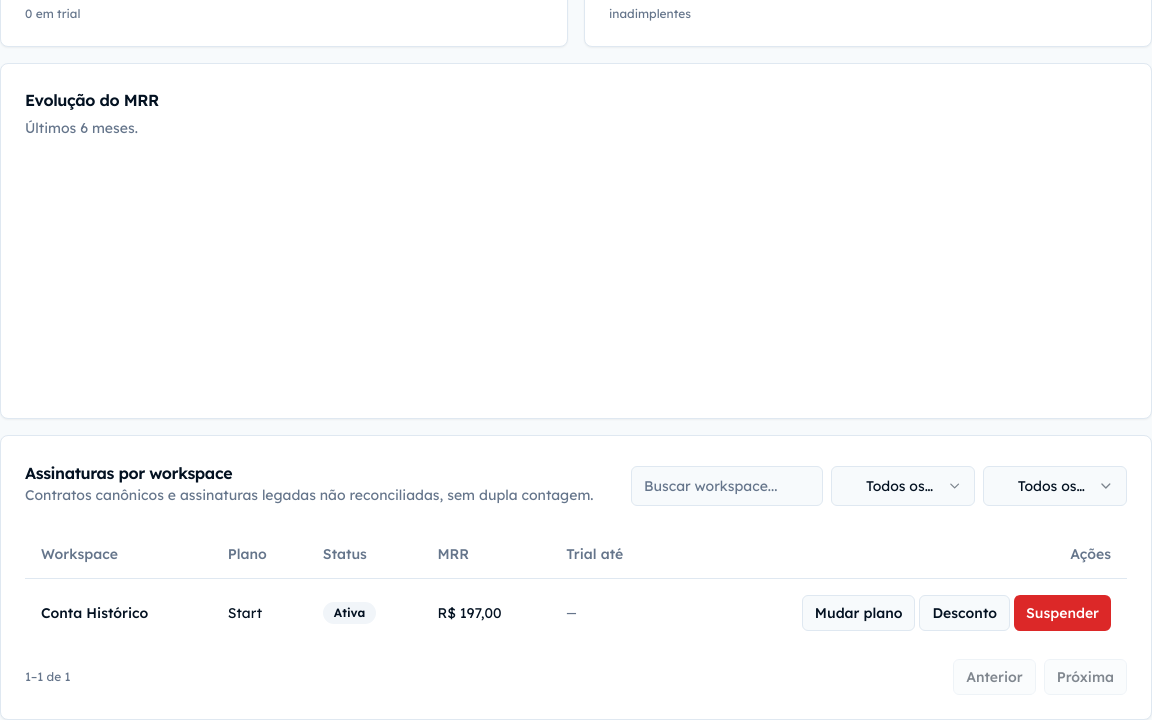
Test: PlatformBillingPanel › loads and navigates the complete subscription history from the paginated endpoint
This screenshot has width=1152, height=720.
(page scrolled)
Click the button "Conta Histórico". click: (95, 612)
box: [41,602,148,622]
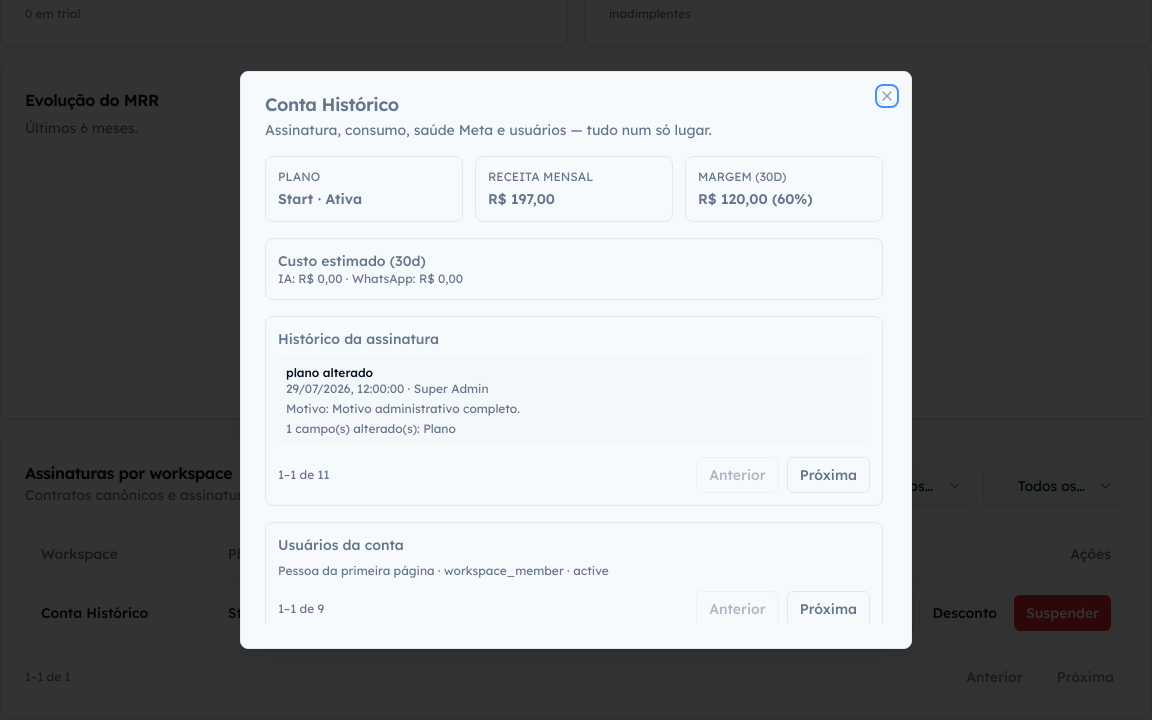
Expected: the text "plano alterado" is shown, [286,365,373,380]
Expected: the text "1–1 de 11" is shown, [278,467,330,483]
Click the button "Próxima" in the row of "1–1 de 11". click: (828, 475)
box: [787,457,870,493]
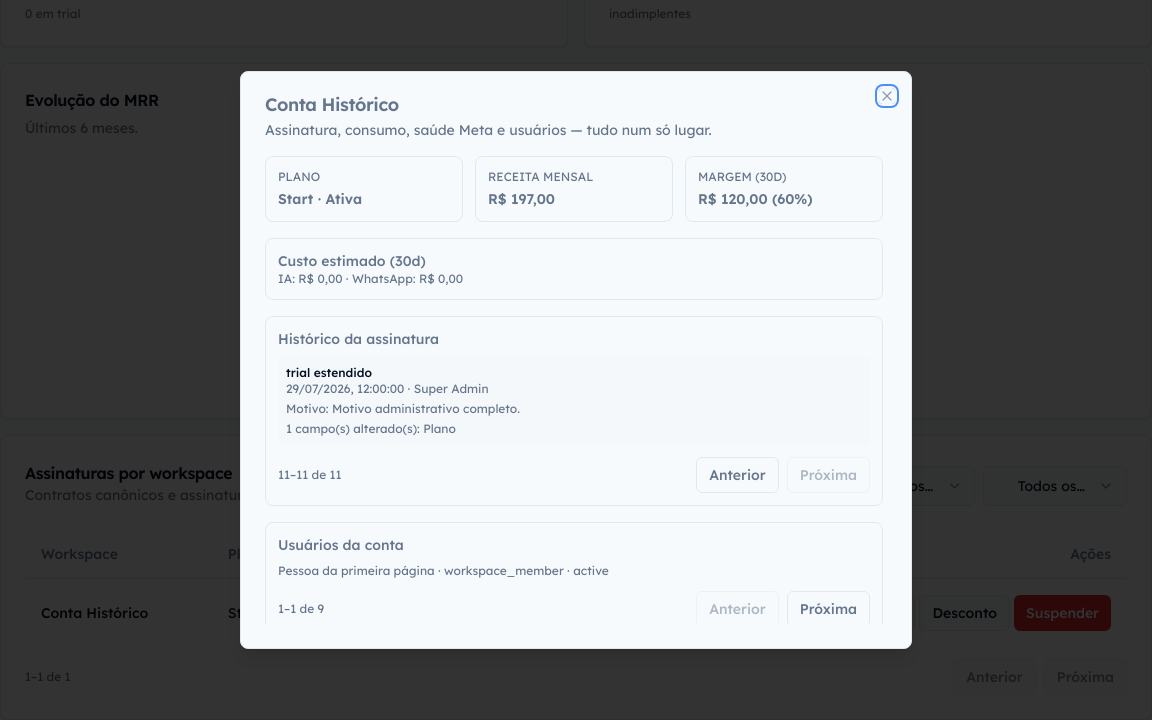
Expected: the list item "Pessoa da primeira página · workspace_member · active" is shown, [278,563,609,578]
Expected: the text "trial estendido" is shown, [286,365,372,380]
Expected: the text "11–11 de 11" is shown, [278,467,342,483]
Click the button "Próxima" in the row of "1–1 de 9". click: (828, 609)
box: [787,591,870,627]
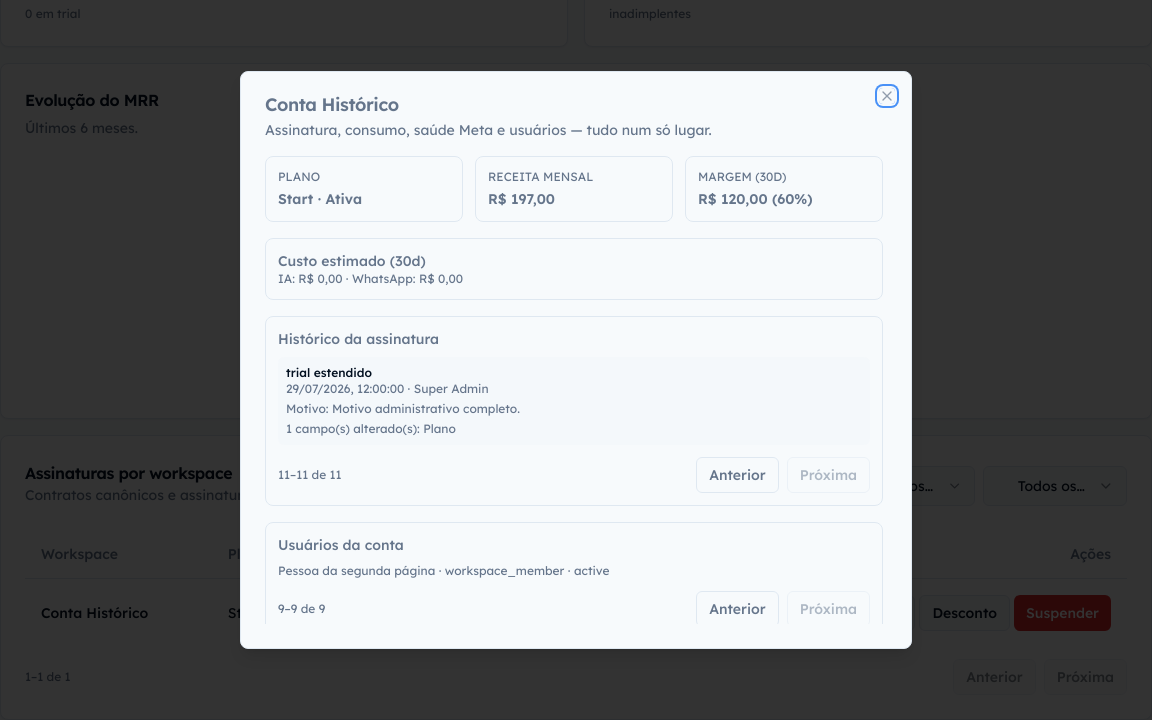
Expected: the list item "Pessoa da segunda página · workspace_member · active" is shown, [278,563,610,578]
Expected: the text "9–9 de 9" is shown, [278,601,325,617]
